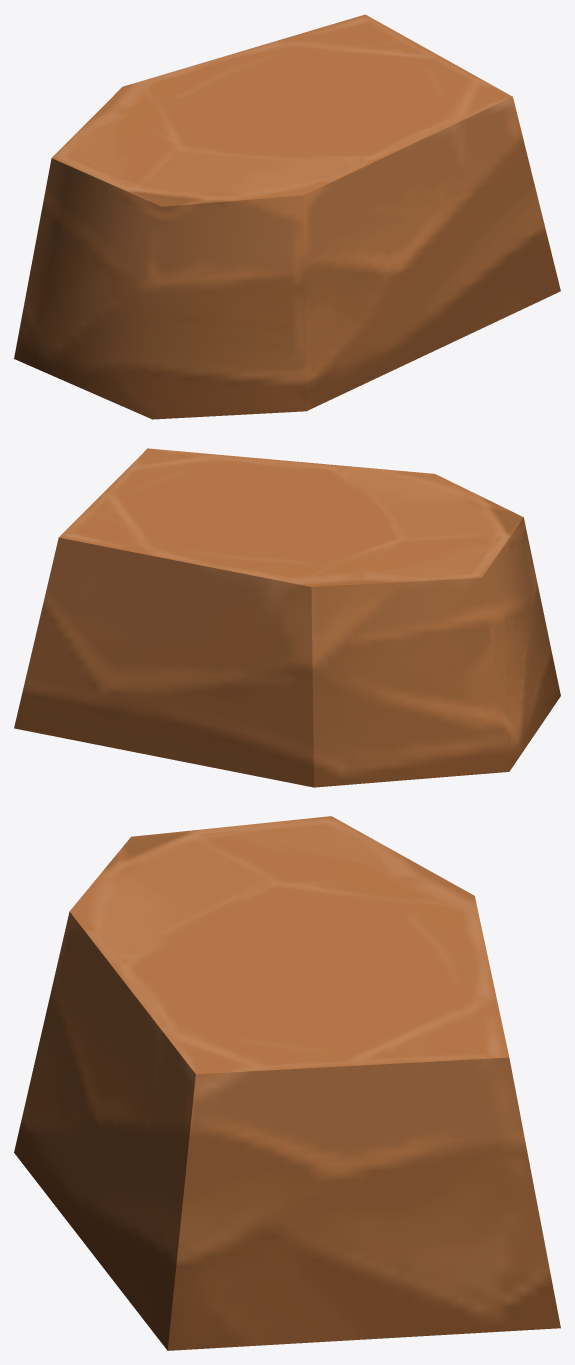
File: xiaowujian05.FBX
The picture shows the model from 3 angles, top to bottom: view 1: azimuth 30°, elevation 25°; view 2: azimuth 150°, elevation 25°; view 3: azimuth 270°, elevation 25°; orthographic projection. The views are drawn at different scales.
Parts seen in each view (by area): view 1: Box003; view 2: Box003; view 3: Box003.
Part boxes in pixels (x1,y1,x2,y2): Box003: (14, 14, 560, 419); Box003: (14, 448, 560, 787); Box003: (14, 816, 560, 1350).
Bounding box in the file's own units: 221 × 86.19 × 169.
